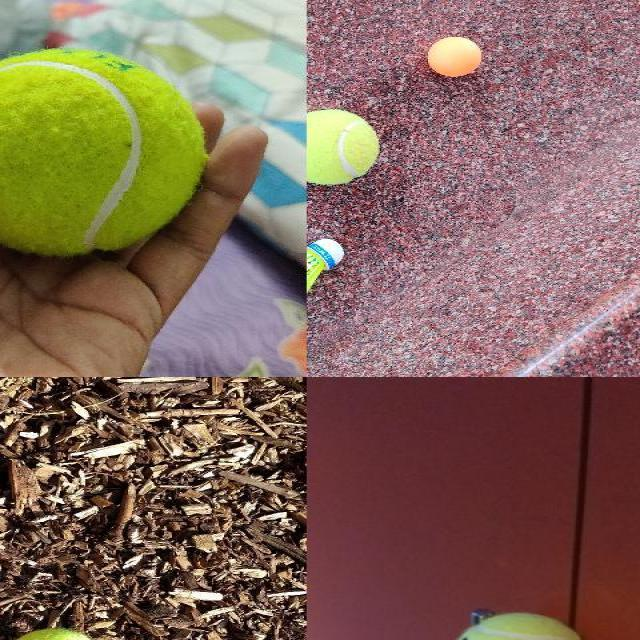tennis-ball: (0, 47, 210, 257), (307, 109, 381, 186), (445, 611, 567, 639)
